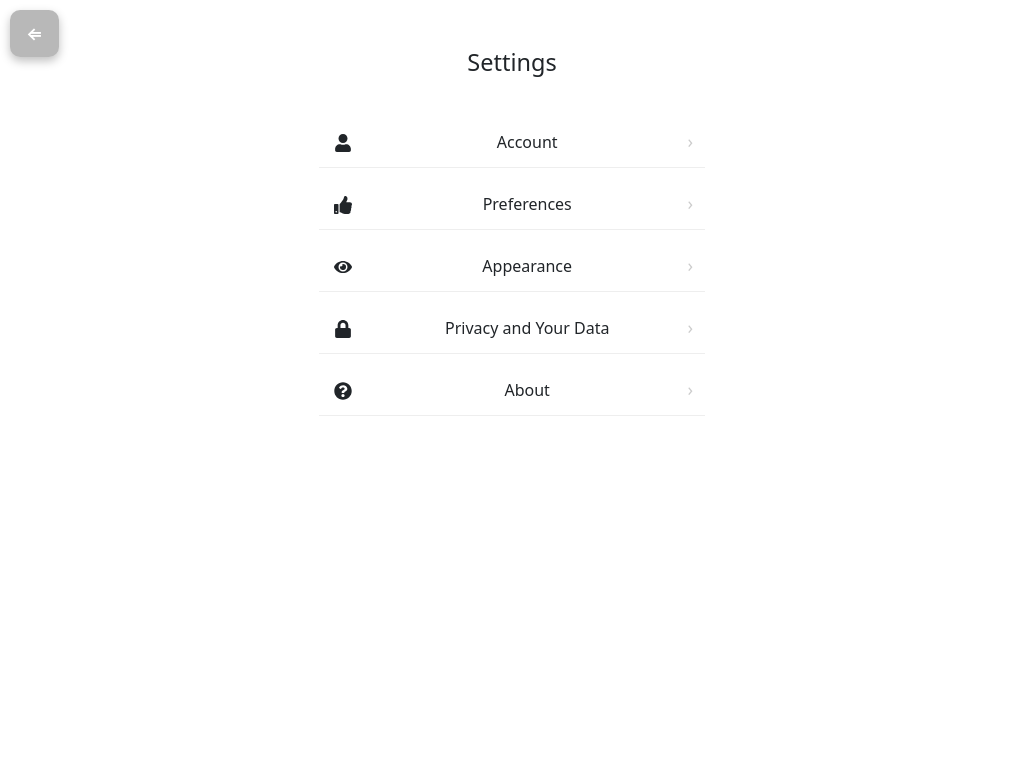
SettingsPage › renders the color picker and reset button
# Expand Appearance section first
Click the text "Appearance".
click(527, 266)  # box [482, 255, 572, 277]
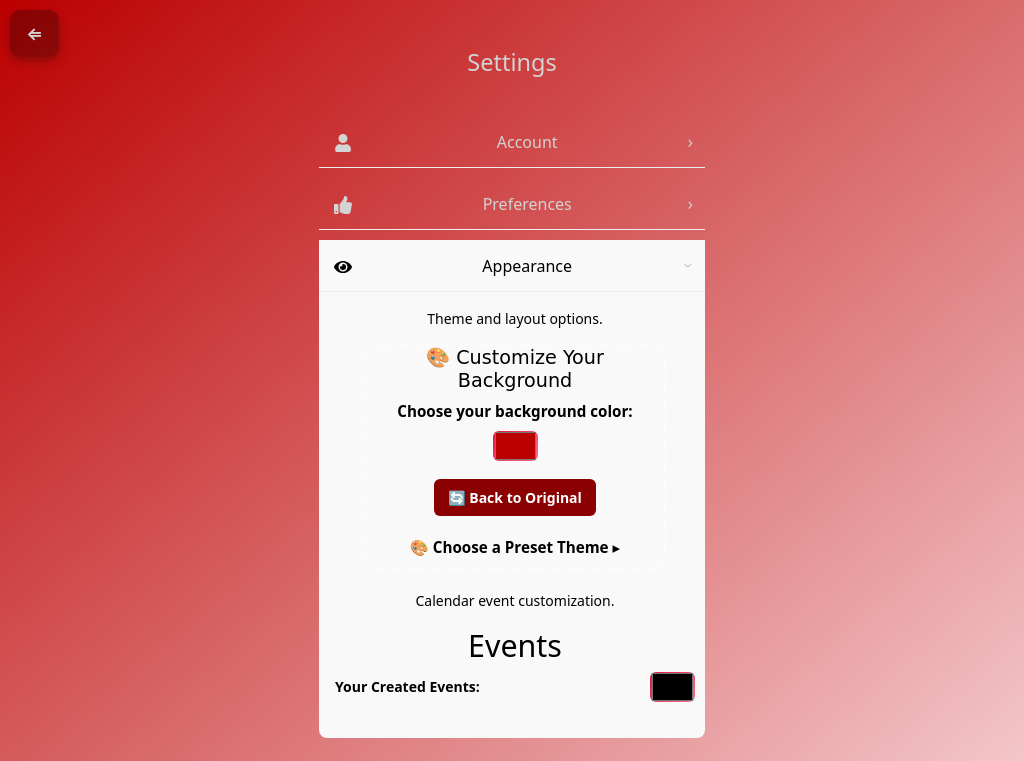
Now the colour field labelled "Choose your background color:" is shown, box [492, 431, 538, 461]
Now the button "🔄 Back to Original" is shown, box [434, 479, 596, 516]
